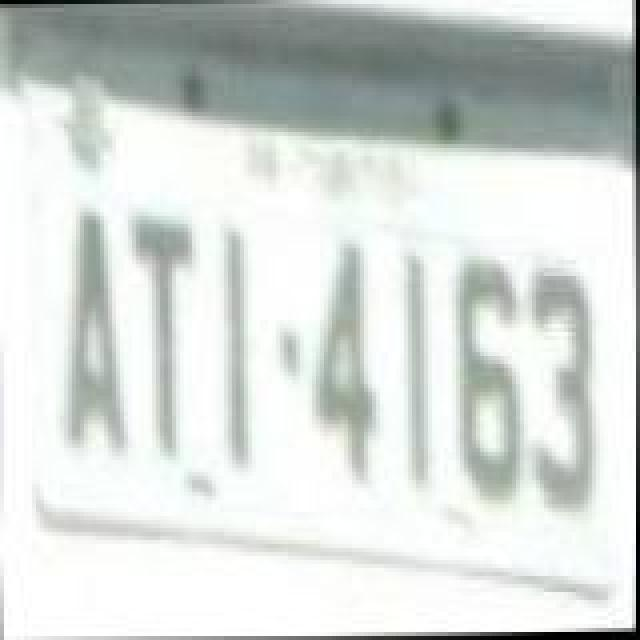1: (216, 224, 252, 480), (400, 246, 428, 498)
3: (522, 262, 598, 522)
4: (306, 240, 378, 492)
6: (450, 250, 526, 510)
A: (58, 202, 130, 462)
T: (126, 212, 198, 464)
